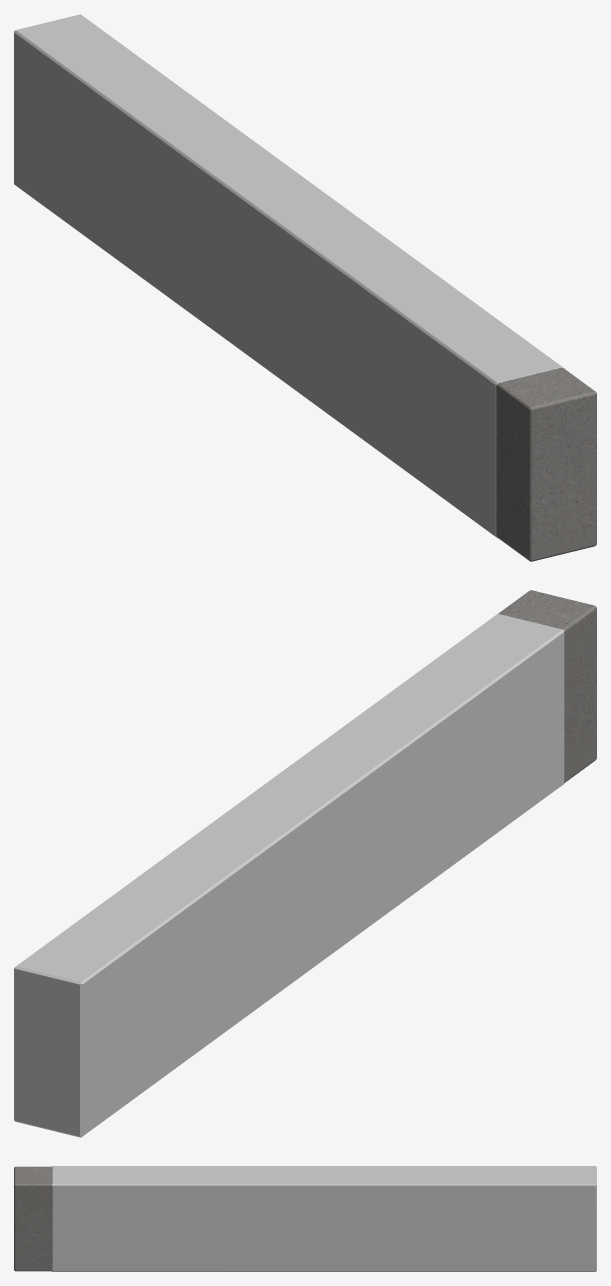
Rendered from SM_DG_HG_SteppingStone01B.fbx.
3 views of the same model, one above another, from view 1: azimuth 30°, elevation 25°; view 2: azimuth 150°, elevation 25°; view 3: azimuth 270°, elevation 25° (orthographic). The views are drawn at different scales.
Visible parts, largest first — view 1: SM_DG_HG_SteppingStone01B_ConvexHulls, SM_DG_HG_SteppingStone01B; view 2: SM_DG_HG_SteppingStone01B_ConvexHulls, SM_DG_HG_SteppingStone01B; view 3: SM_DG_HG_SteppingStone01B_ConvexHulls, SM_DG_HG_SteppingStone01B.
Boxes of the visible parts, x1,y1,x2,y2 form: SM_DG_HG_SteppingStone01B_ConvexHulls: [14, 14, 563, 538]; SM_DG_HG_SteppingStone01B: [496, 367, 596, 561]; SM_DG_HG_SteppingStone01B_ConvexHulls: [14, 614, 564, 1137]; SM_DG_HG_SteppingStone01B: [498, 590, 596, 782]; SM_DG_HG_SteppingStone01B_ConvexHulls: [52, 1166, 596, 1271]; SM_DG_HG_SteppingStone01B: [14, 1166, 52, 1271].
Size of the model in its own units: 20.26 by 264 by 43.88.
Materials: 2 (1 with a texture image).
